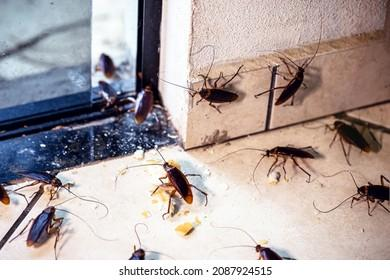cockroach: (151, 160, 208, 215), (259, 144, 317, 185), (328, 114, 374, 158), (24, 203, 63, 250), (16, 168, 74, 198), (272, 63, 308, 109), (350, 176, 390, 215), (192, 80, 240, 112), (130, 84, 160, 131), (96, 81, 125, 113), (96, 51, 120, 80), (254, 242, 284, 260), (125, 245, 147, 260)
